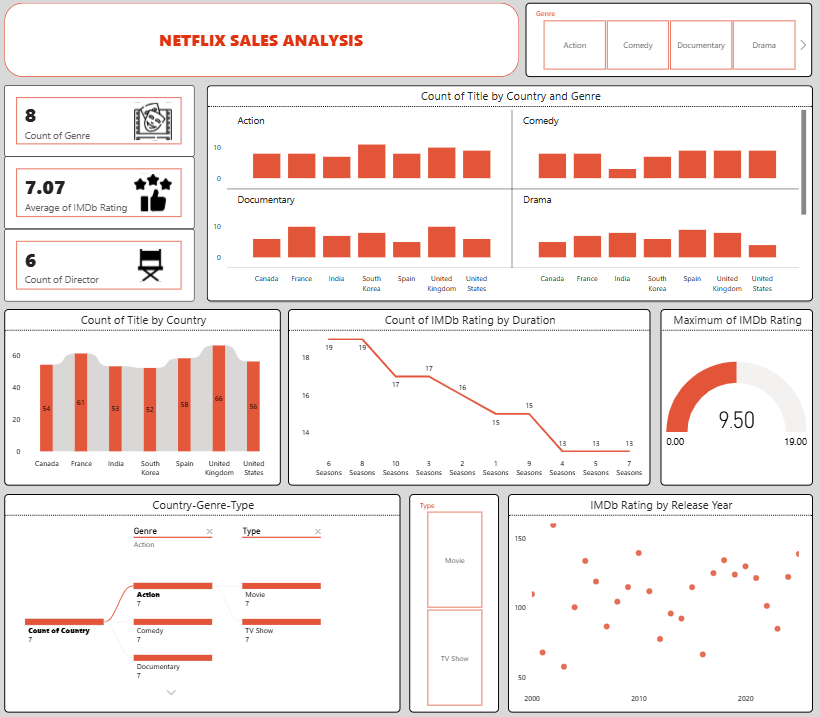

This screenshot's page, from the dashboard's own definition file:
{"tool":"powerbi","page":{"name":"Dashboard","canvas":[1365,1220],"ordinal":0},"visuals":[{"type":"shape","box":[10.2,22,853.1,122.9],"z":0},{"type":"textbox","box":[27.8,60,818,49.8],"z":1000},{"type":"cardVisual","fields":{"Data":["Avg(Netflix_Content_Data.IMDb Rating)"]},"box":[10.4,277.7,314.9,120.2],"z":2000},{"type":"cardVisual","fields":{"Data":["Count(Netflix_Content_Data.Director)"]},"box":[10.4,397.8,314.9,120.2],"z":3000},{"type":"cardVisual","fields":{"Data":["Count(Netflix_Content_Data.Genre)"]},"box":[10.4,159.5,314.9,118.1],"z":4000},{"type":"slicer","fields":{"Values":["Netflix_Content_Data.Type"]},"box":[681.7,837.1,149.2,362.6],"z":5000},{"type":"slicer","fields":{"Values":["Netflix_Content_Data.Genre"]},"box":[875.1,22,475.6,122.9],"z":6000},{"type":"clusteredColumnChart","fields":{"Category":["Netflix_Content_Data.Country"],"Y":["CountNonNull(Netflix_Content_Data.Title)"],"Rows":["Netflix_Content_Data.Genre"]},"box":[346,159.5,1004.9,358.5],"z":7000},{"type":"lineChart","fields":{"Category":["Netflix_Content_Data.Duration"],"Y":["Count(Netflix_Content_Data.IMDb Rating)"]},"box":[481.3,530.7,601.1,292.9],"z":8000},{"type":"ribbonChart","fields":{"Category":["Netflix_Content_Data.Country","Netflix_Content_Data.Genre","Netflix_Content_Data.Type"],"Y":["CountNonNull(Netflix_Content_Data.Title)"]},"box":[9.5,530.7,458.4,292.9],"z":9000},{"type":"gauge","title":"Maximum of IMDb Rating","fields":{"Y":["Max(Netflix_Content_Data.IMDb Rating)"]},"box":[1097.6,530.7,253,292.9],"z":10000},{"type":"decompositionTreeVisual","title":"Country-Genre-Type","fields":{"Analyze":["Count(Netflix_Content_Data.Country)"],"ExplainBy":["Netflix_Content_Data.Genre","Netflix_Content_Data.Type"]},"box":[10.4,837.1,656.8,362.6],"z":11000},{"type":"scatterChart","title":"IMDb Rating by Release Year","fields":{"X":["Netflix_Content_Data.Release Year"],"Y":["Sum(Netflix_Content_Data.IMDb Rating)"]},"box":[845.4,837.1,505.6,362.6],"z":12000},{"type":"actionButton","box":[221.7,184.4,120.2,70.4],"z":13000},{"type":"actionButton","box":[221.7,302.5,85,70.4],"z":14000},{"type":"actionButton","box":[221.7,426.8,85,62.2],"z":15000}]}

Visuals, with their boxes in screenshot pixels (x1, y1, x2, y2), scaled from the page's 1365x1220 canvas onto the 820x717 screenshot:
shape: rect(6, 13, 519, 85)
textbox: rect(17, 35, 508, 65)
cardVisual - Avg(Netflix_Content_Data.IMDb Rating): rect(6, 163, 195, 234)
cardVisual - Count(Netflix_Content_Data.Director): rect(6, 234, 195, 304)
cardVisual - Count(Netflix_Content_Data.Genre): rect(6, 94, 195, 163)
slicer - Netflix_Content_Data.Type: rect(410, 492, 499, 705)
slicer - Netflix_Content_Data.Genre: rect(526, 13, 811, 85)
clusteredColumnChart - Netflix_Content_Data.Country x CountNonNull(Netflix_Content_Data.Title): rect(208, 94, 812, 304)
lineChart - Netflix_Content_Data.Duration x Count(Netflix_Content_Data.IMDb Rating): rect(289, 312, 650, 484)
ribbonChart - Netflix_Content_Data.Country x Netflix_Content_Data.Genre: rect(6, 312, 281, 484)
"Maximum of IMDb Rating" gauge: rect(659, 312, 811, 484)
"Country-Genre-Type" decompositionTreeVisual: rect(6, 492, 401, 705)
"IMDb Rating by Release Year" scatterChart: rect(508, 492, 812, 705)
actionButton: rect(133, 108, 205, 150)
actionButton: rect(133, 178, 184, 219)
actionButton: rect(133, 251, 184, 287)
